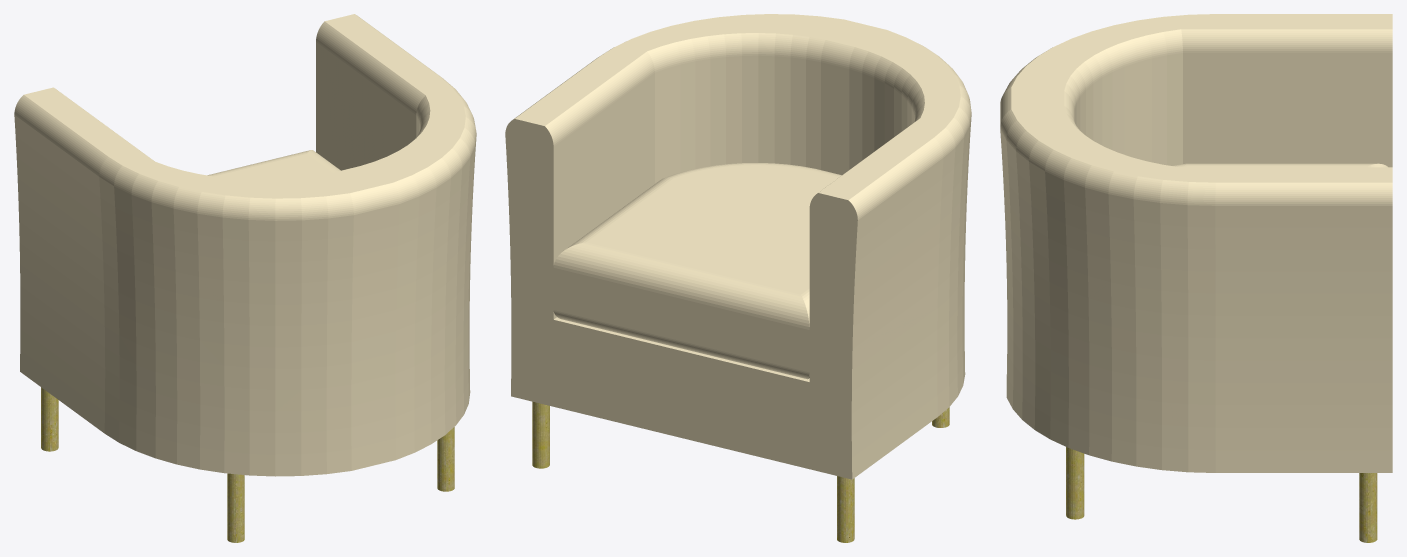
3 renders of one model, left to right at view 1: azimuth 30°, elevation 25°; view 2: azimuth 150°, elevation 25°; view 3: azimuth 270°, elevation 25°, orthographic. The views are drawn at different scales.
Parts seen in each view (by area): view 1: Mesh2 CHAIR1 Solsta_Olarp1 Model, Mesh6 CUSHION1 Solsta_Olarp1 Model, Mesh4 CHAIR1 Solsta_Olarp1 Model, Mesh3 CHAIR1 Solsta_Olarp1 Model, Mesh5 CHAIR1 Solsta_Olarp1 Model; view 2: Mesh2 CHAIR1 Solsta_Olarp1 Model, Mesh6 CUSHION1 Solsta_Olarp1 Model, Mesh3 CHAIR1 Solsta_Olarp1 Model, Mesh1 CHAIR1 Solsta_Olarp1 Model; view 3: Mesh2 CHAIR1 Solsta_Olarp1 Model, Mesh1 CHAIR1 Solsta_Olarp1 Model, Mesh5 CHAIR1 Solsta_Olarp1 Model, Mesh6 CUSHION1 Solsta_Olarp1 Model.
Boxes of the visible parts, <box> form: Mesh2 CHAIR1 Solsta_Olarp1 Model: <box>14,14,476,476</box>; Mesh6 CUSHION1 Solsta_Olarp1 Model: <box>207,150,340,179</box>; Mesh4 CHAIR1 Solsta_Olarp1 Model: <box>227,473,244,542</box>; Mesh3 CHAIR1 Solsta_Olarp1 Model: <box>41,387,58,451</box>; Mesh5 CHAIR1 Solsta_Olarp1 Model: <box>437,427,454,491</box>; Mesh2 CHAIR1 Solsta_Olarp1 Model: <box>505,14,971,479</box>; Mesh6 CUSHION1 Solsta_Olarp1 Model: <box>553,163,841,379</box>; Mesh3 CHAIR1 Solsta_Olarp1 Model: <box>837,476,854,542</box>; Mesh1 CHAIR1 Solsta_Olarp1 Model: <box>532,401,549,468</box>; Mesh2 CHAIR1 Solsta_Olarp1 Model: <box>1000,14,1392,472</box>; Mesh1 CHAIR1 Solsta_Olarp1 Model: <box>1359,473,1377,542</box>; Mesh5 CHAIR1 Solsta_Olarp1 Model: <box>1066,447,1084,519</box>; Mesh6 CUSHION1 Solsta_Olarp1 Model: <box>1172,163,1387,167</box>.
Size of the model in its own units: 0.6112 by 0.5818 by 0.569.
Materials: 2 (1 with a texture image).
